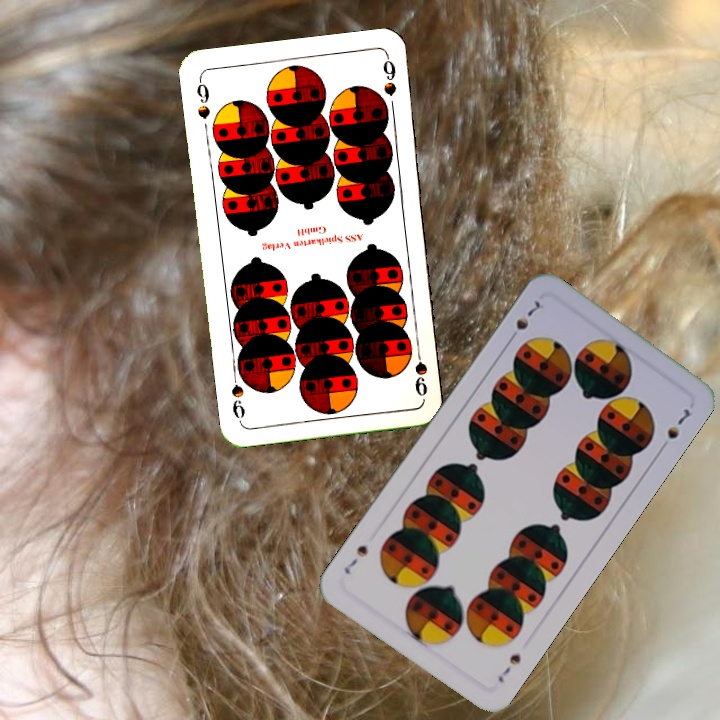S7: (504, 297, 543, 345), (493, 649, 524, 686)
S9: (410, 341, 430, 399), (192, 74, 213, 121)
